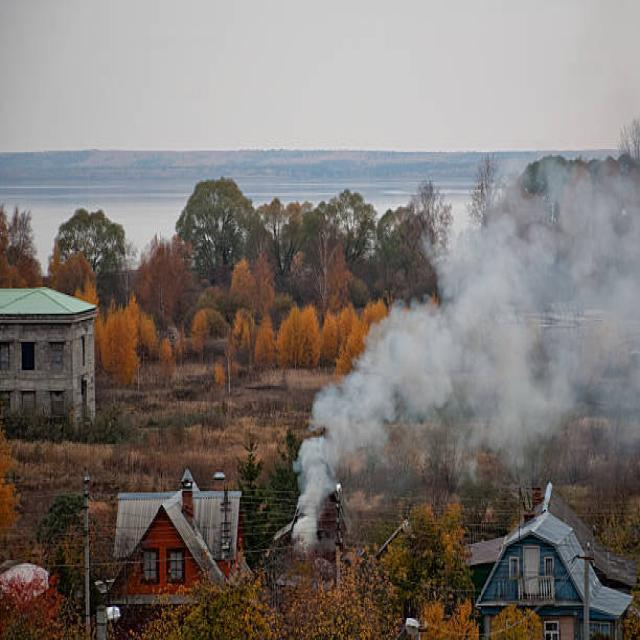Smoke: (275, 163, 640, 546)
